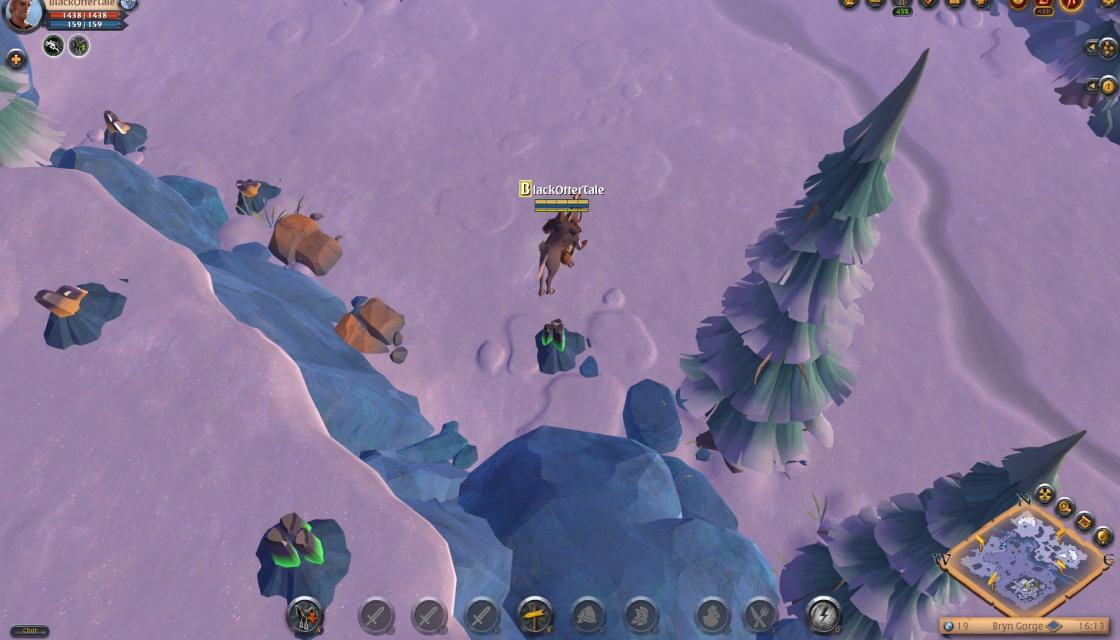copperore: (30, 274, 128, 352), (93, 103, 149, 157), (228, 173, 281, 213)
limestone: (266, 206, 344, 276), (334, 294, 411, 364)
tinore: (250, 510, 348, 618), (531, 316, 591, 375)
